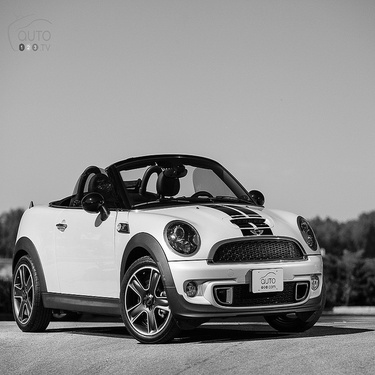car: (5, 143, 330, 347)
